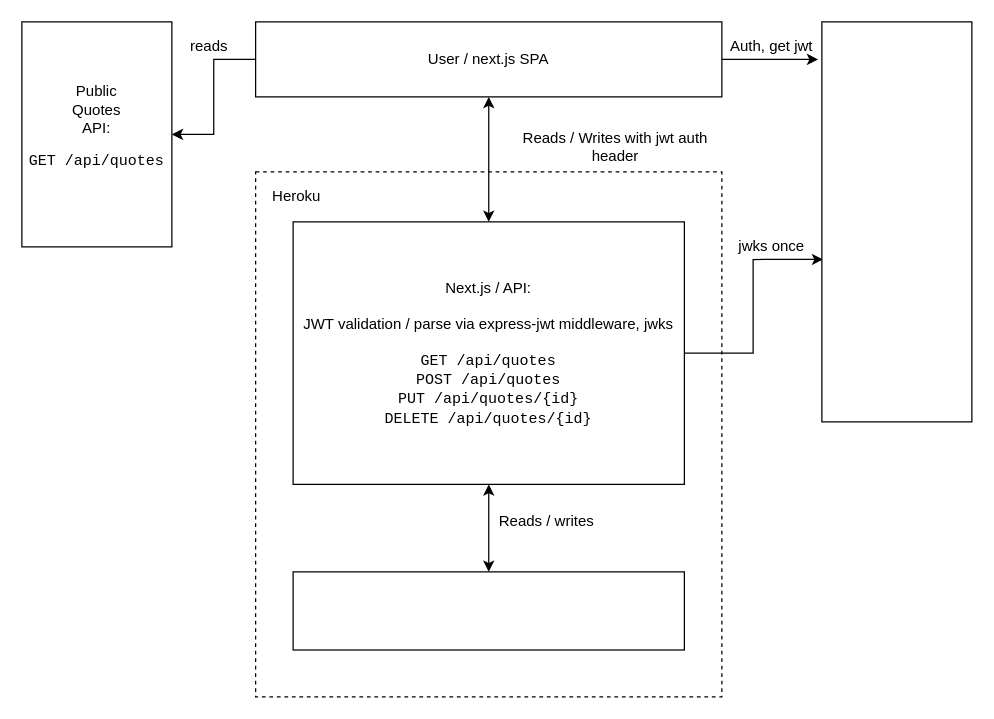
The diagram is 994 pixels wide and 719 high, and some of its shapes have lost their labels. Each missing label, with the box of its shape:
Auth0: (821, 21, 972, 422)
Postgresql: (292, 571, 684, 650)
